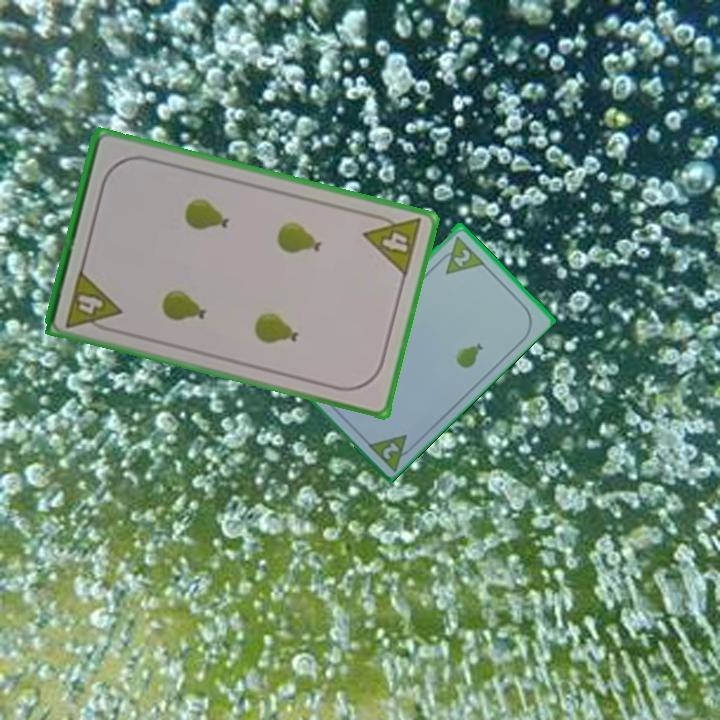2p: (363, 430, 419, 473), (449, 245, 473, 269)
4p: (360, 208, 425, 279), (62, 266, 124, 335)
